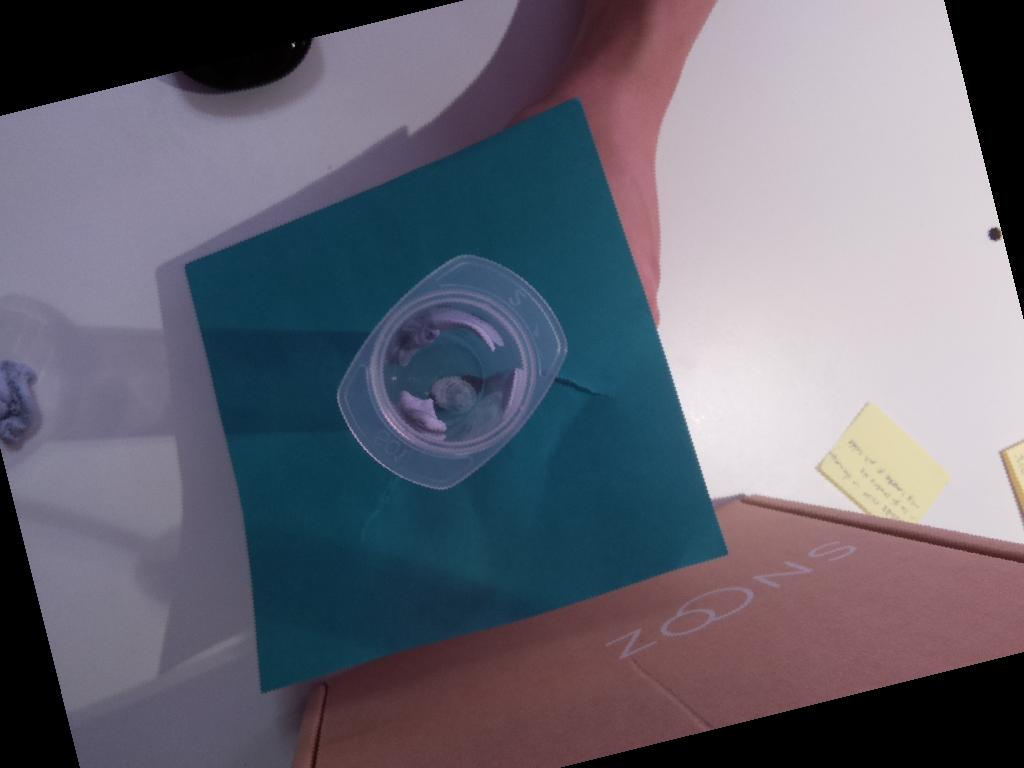dirty: (337, 255, 572, 492)
